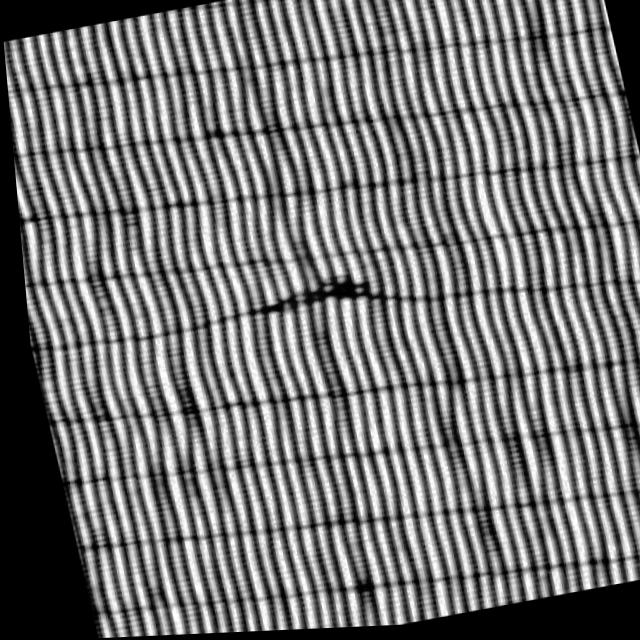Stitch: (209, 240, 423, 355)
